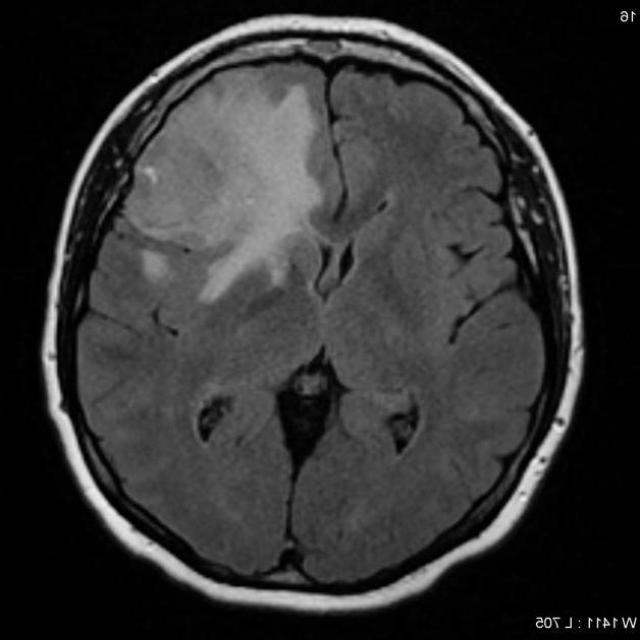Tumor-Cell: (131, 88, 348, 290)
